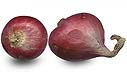onion: (48, 12, 126, 64), (1, 14, 49, 62)
